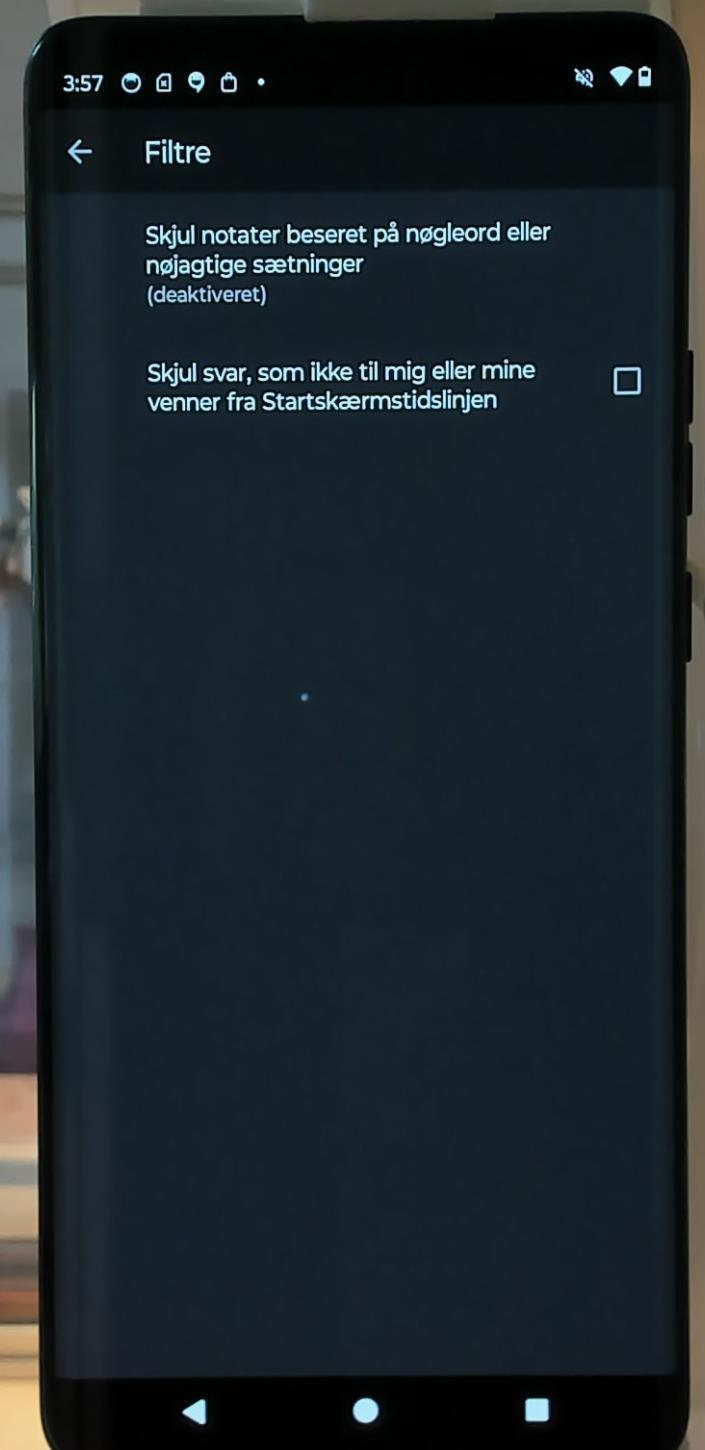Checkbox: (129, 345, 649, 423)
CommunBotton: (60, 122, 101, 173), (345, 1385, 386, 1431), (175, 1386, 214, 1432), (520, 1391, 552, 1430)
